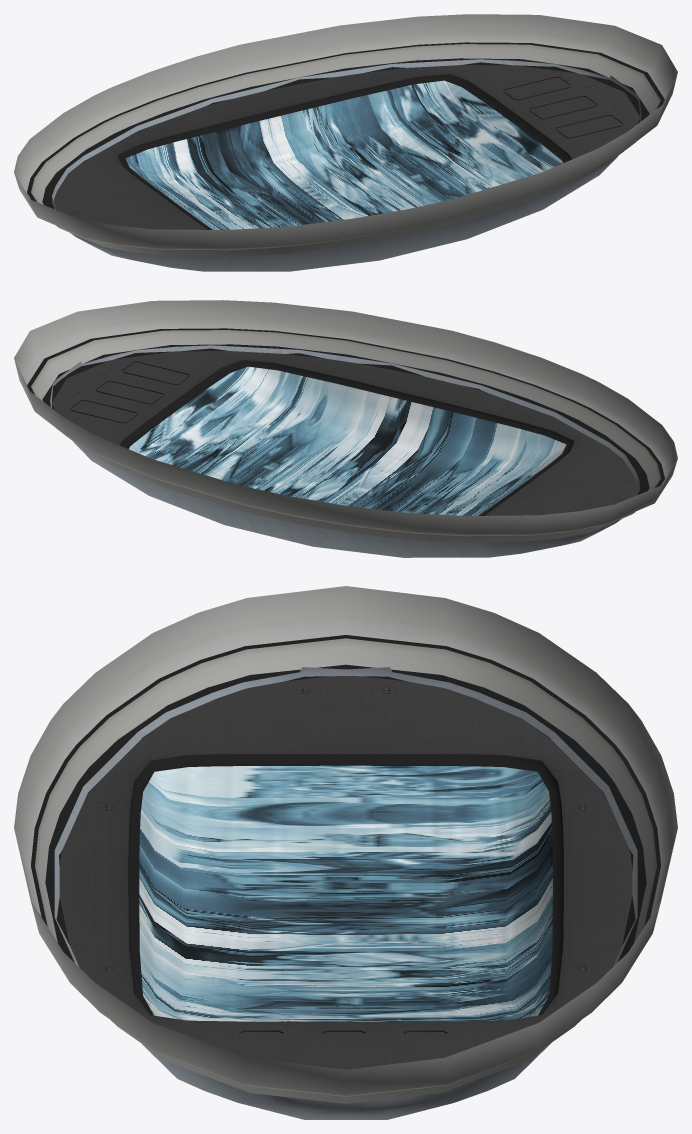
The model's file is nt_tv_wall_LOD1.obj.
3 renders of one model, top to bottom at view 1: azimuth 30°, elevation 25°; view 2: azimuth 150°, elevation 25°; view 3: azimuth 270°, elevation 25°, orthographic. The views are drawn at different scales.
Parts seen in each view (by area): view 1: mtl_nt_tv_wall, mtl_nt_2020_screen_animated_01, glass_clear_mp_model; view 2: mtl_nt_tv_wall, mtl_nt_2020_screen_animated_01, glass_clear_mp_model; view 3: mtl_nt_tv_wall, mtl_nt_2020_screen_animated_01, glass_clear_mp_model.
Boxes of the visible parts, <box> form: mtl_nt_tv_wall: <box>14,14,677,256</box>; mtl_nt_2020_screen_animated_01: <box>125,80,562,229</box>; glass_clear_mp_model: <box>52,59,641,271</box>; mtl_nt_tv_wall: <box>14,300,677,542</box>; mtl_nt_2020_screen_animated_01: <box>129,366,566,515</box>; glass_clear_mp_model: <box>50,345,639,557</box>; mtl_nt_tv_wall: <box>14,586,677,1103</box>; mtl_nt_2020_screen_animated_01: <box>139,765,552,1021</box>; glass_clear_mp_model: <box>54,667,637,1119</box>.
Size of the model in its own units: 169 by 24.82 by 98.09.
